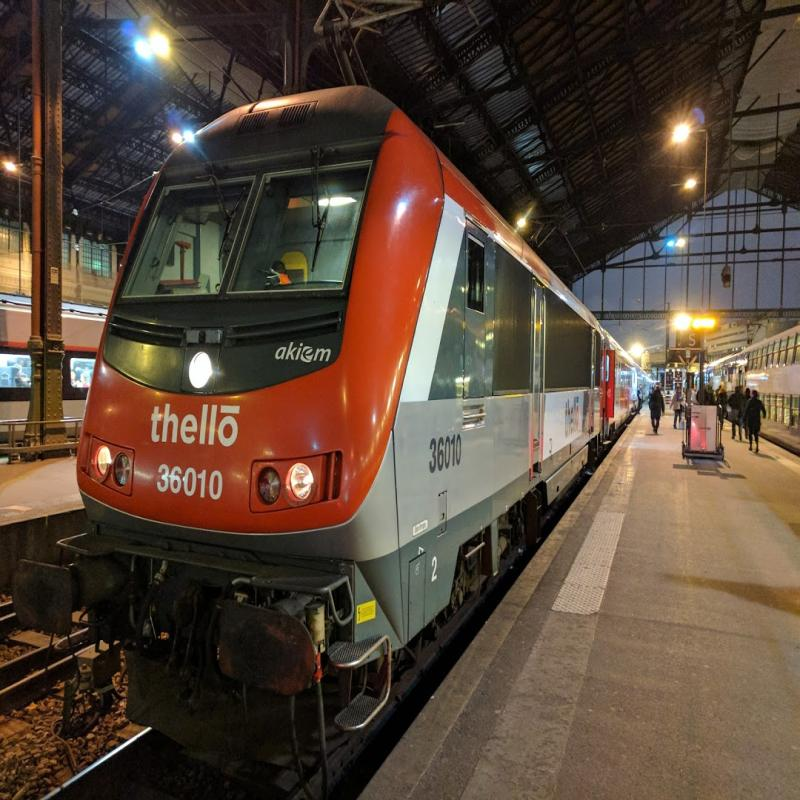train: (126, 92, 610, 655)
